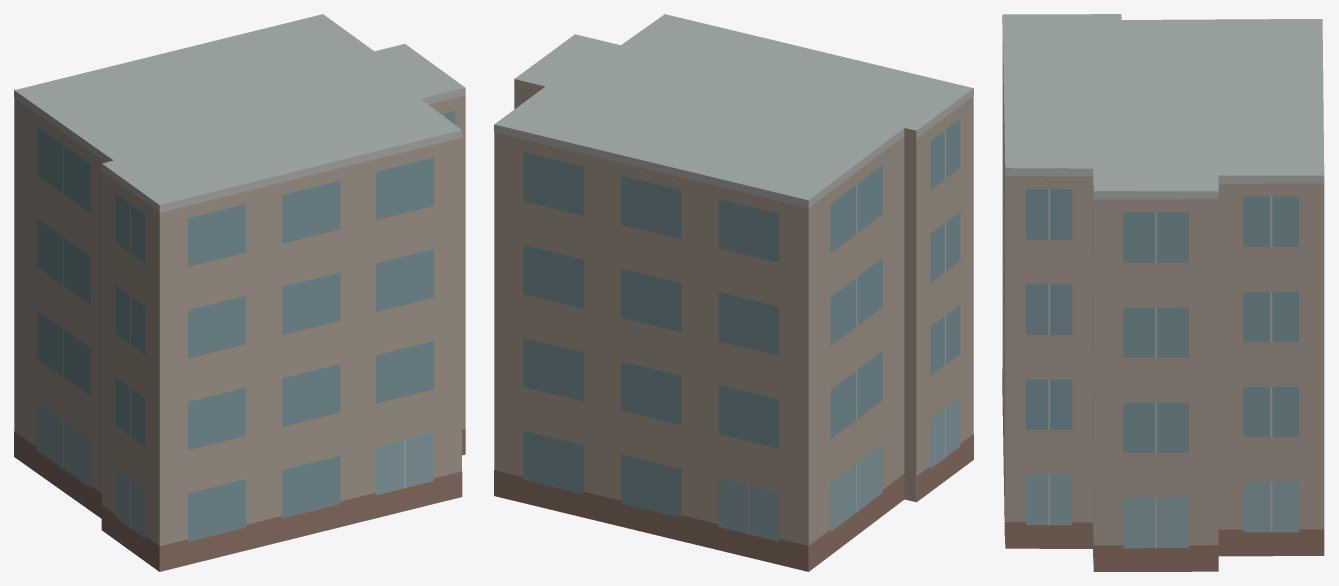
Rendered from survey-upis-32527824.glb.
The picture shows the model from 3 angles, left to right: view 1: azimuth 30°, elevation 25°; view 2: azimuth 150°, elevation 25°; view 3: azimuth 270°, elevation 25°; orthographic projection. The views are drawn at different scales.
Parts seen in each view (by area): view 1: survey-upis-32527824.tmp; view 2: survey-upis-32527824.tmp; view 3: survey-upis-32527824.tmp.
Part boxes in pixels (<box>): survey-upis-32527824.tmp: <box>14,14,465,571</box>; survey-upis-32527824.tmp: <box>494,14,973,571</box>; survey-upis-32527824.tmp: <box>1002,14,1324,571</box>.
Size of the model in its own units: 11.81 by 11.8 by 9.05.
